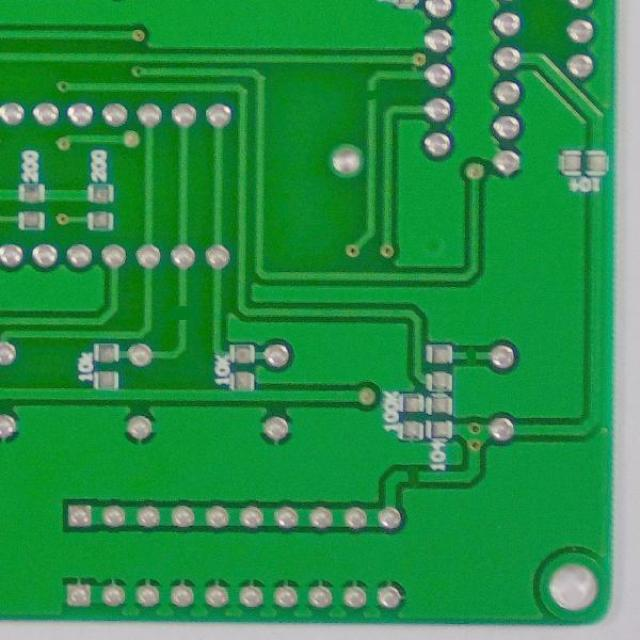Open_Circuit: (158, 291, 196, 332), (399, 460, 429, 490), (361, 80, 384, 111), (458, 344, 485, 365)
